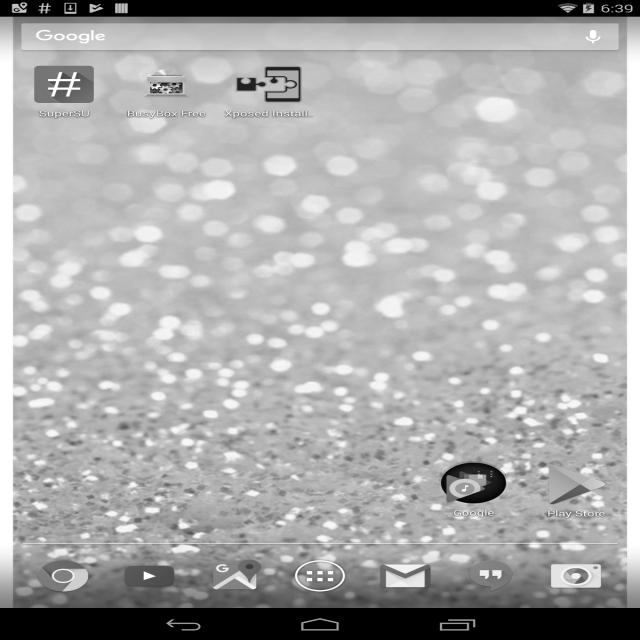EditText: (18, 20, 623, 52)
ImageView: (436, 460, 513, 505), (229, 64, 311, 104), (542, 460, 610, 505), (34, 65, 96, 103), (36, 560, 90, 594), (548, 561, 607, 591), (209, 560, 263, 592), (120, 564, 182, 591), (143, 68, 190, 100), (382, 561, 433, 590), (469, 560, 515, 592)
TextView: (224, 107, 314, 119), (125, 107, 208, 120), (34, 108, 96, 120), (544, 509, 608, 520), (452, 508, 498, 520)
